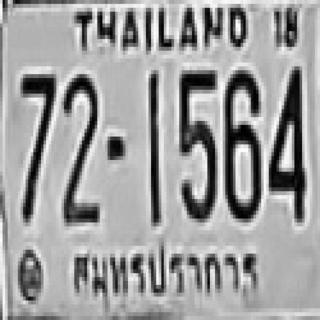N01: (147, 68, 160, 221)
N02: (60, 70, 98, 222)
N04: (268, 65, 306, 221)
N05: (178, 70, 217, 223)
N06: (223, 69, 262, 221)
N07: (19, 72, 55, 220)
P57: (64, 235, 267, 306)
